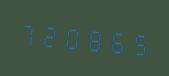eight: (84, 20, 105, 57)
five: (128, 23, 149, 61)
seven: (17, 14, 38, 51)
six: (106, 21, 127, 59)
two: (39, 16, 60, 53)
zero: (62, 18, 83, 55)
